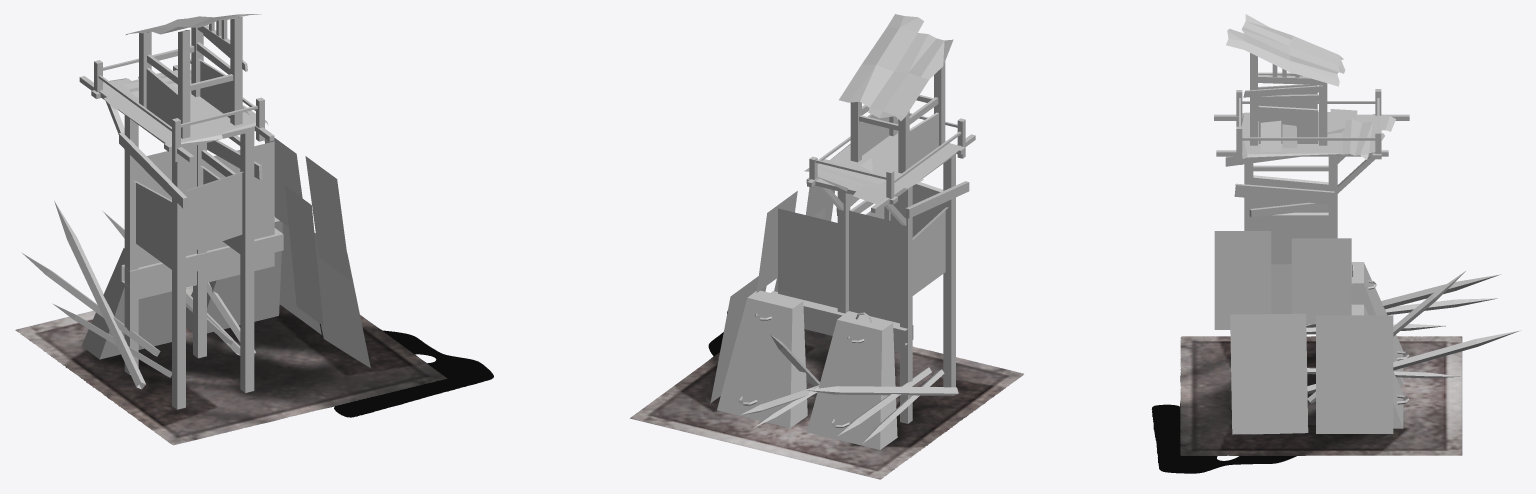
File: liaowangta.FBX
3 views of the same model, side by side, from view 1: azimuth 30°, elevation 25°; view 2: azimuth 150°, elevation 25°; view 3: azimuth 270°, elevation 25° (orthographic). The views are drawn at different scales.
Visible parts, largest first — view 1: liaowangta_diff, liaowangta_di; view 2: liaowangta_diff, liaowangta_di; view 3: liaowangta_diff, liaowangta_di.
Boxes of the visible parts, bbox=[...] form: liaowangta_diff: bbox=[22, 14, 370, 409]; liaowangta_di: bbox=[15, 286, 493, 445]; liaowangta_diff: bbox=[710, 14, 975, 449]; liaowangta_di: bbox=[630, 311, 1023, 479]; liaowangta_diff: bbox=[1214, 14, 1520, 434]; liaowangta_di: bbox=[1151, 336, 1462, 473].
Size of the model in its own units: 751 by 843 by 936.
